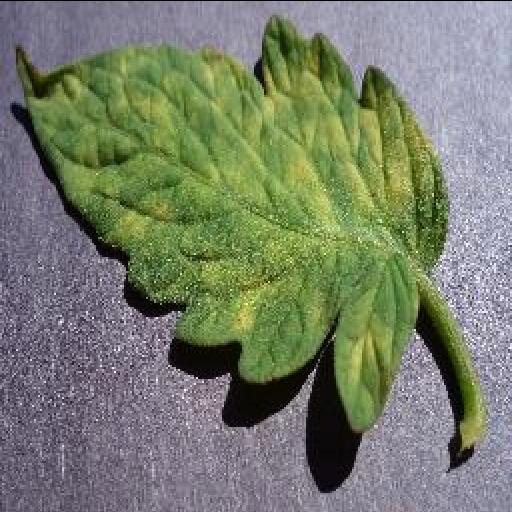disease_tomato: (15, 14, 449, 432)
